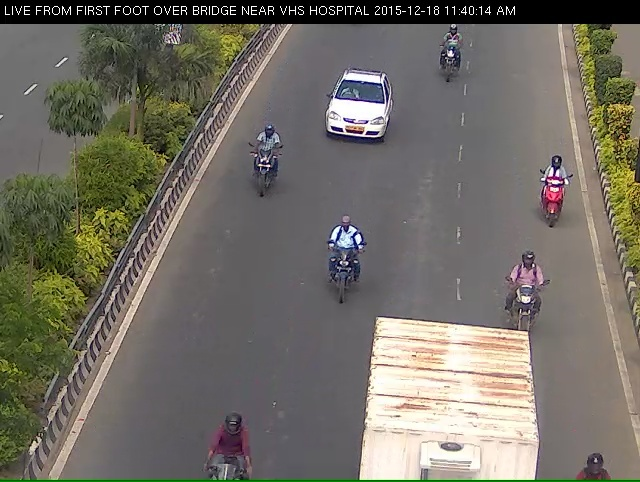Bus: (361, 325, 548, 481)
Car: (325, 74, 386, 166)
Person: (506, 275, 546, 363), (323, 226, 350, 327), (538, 163, 567, 240), (246, 136, 271, 221), (438, 29, 463, 96)
